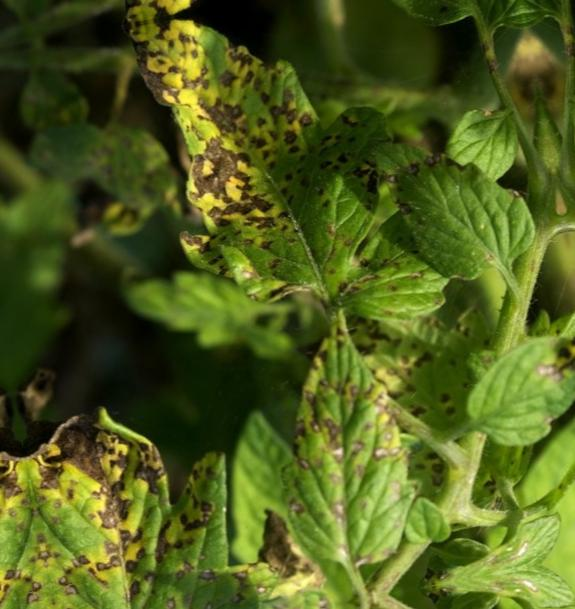Tomato Septoria leaf spot: (113, 0, 401, 315), (21, 390, 316, 609), (248, 298, 428, 584)
